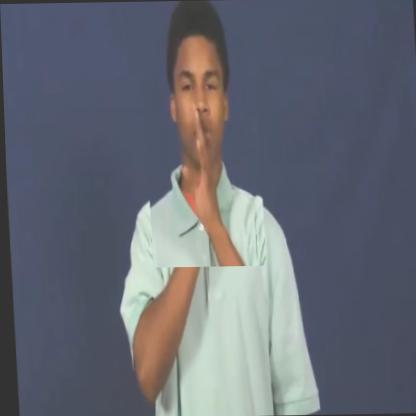Talk: (138, 0, 264, 267)
